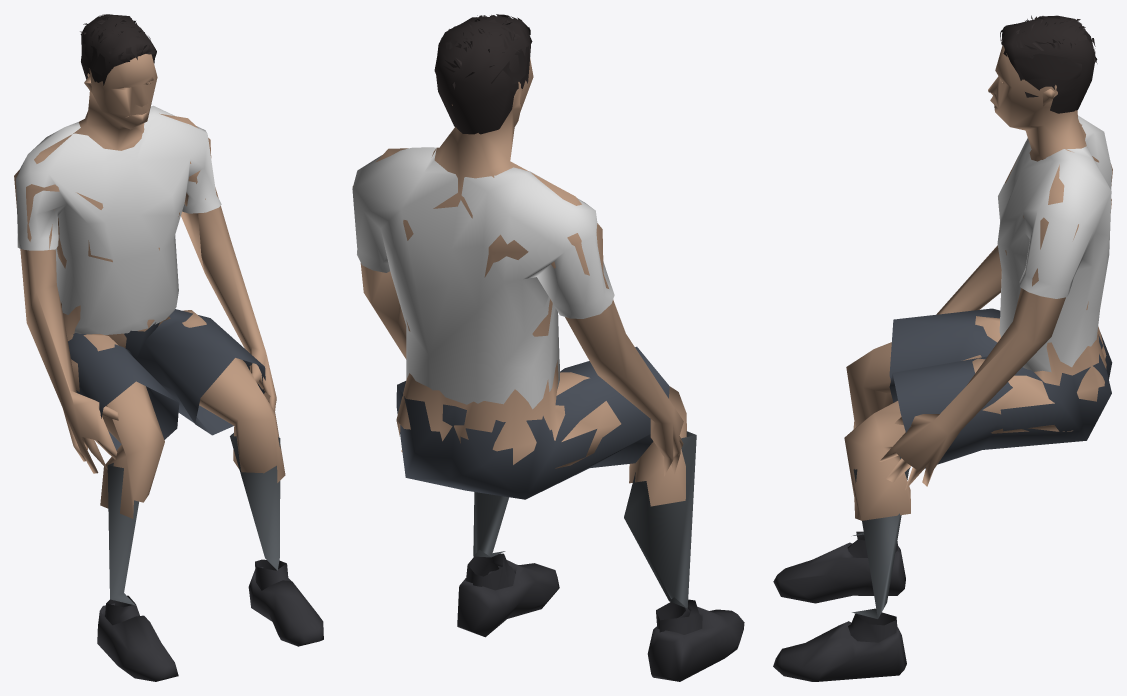
The model's file is spectator.glb.
3 views of the same model, side by side, from view 1: azimuth 30°, elevation 25°; view 2: azimuth 150°, elevation 25°; view 3: azimuth 270°, elevation 25° (orthographic). The views are drawn at different scales.
Visible parts, largest first — view 1: Athlete, Jersey, Shorts, Boots, Socks, Hair; view 2: Jersey, Athlete, Shorts, Boots, Hair, Socks; view 3: Athlete, Jersey, Shorts, Boots, Hair, Socks.
Boxes of the visible parts, bbox=[...] form: Athlete: bbox=[14, 54, 285, 518]; Jersey: bbox=[16, 105, 221, 334]; Shorts: bbox=[68, 309, 265, 450]; Boots: bbox=[97, 559, 323, 681]; Socks: bbox=[107, 433, 280, 605]; Hair: bbox=[80, 14, 156, 90]; Jersey: bbox=[352, 147, 614, 409]; Athlete: bbox=[352, 58, 686, 506]; Shorts: bbox=[396, 346, 669, 499]; Boots: bbox=[457, 553, 744, 681]; Hair: bbox=[434, 14, 532, 134]; Socks: bbox=[473, 431, 696, 608]; Athlete: bbox=[844, 45, 1112, 520]; Jersey: bbox=[997, 115, 1111, 372]; Shorts: bbox=[889, 308, 1112, 468]; Boots: bbox=[773, 531, 906, 681]; Hair: bbox=[1000, 15, 1097, 113]; Socks: bbox=[852, 457, 910, 618].
Size of the model in its own units: 0.5607 by 1.46 by 0.7282.
